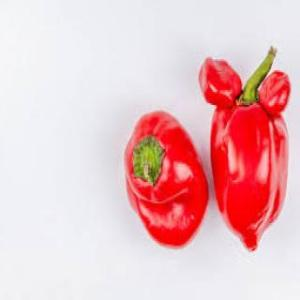bell_pepper: (196, 35, 296, 261), (117, 102, 207, 258)
